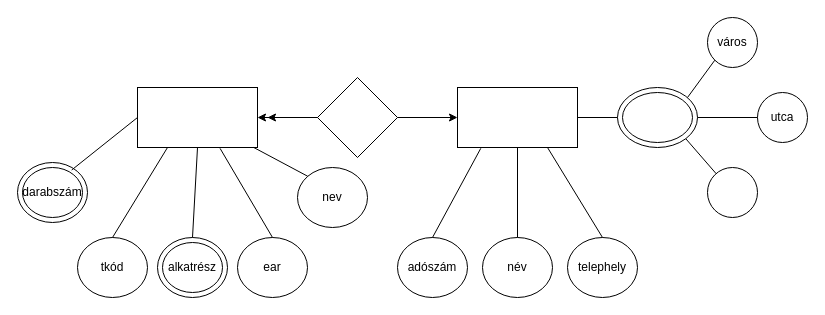
Image size: 825x315. Some labels were removed from this diagram. The shapes that lost their labels are listed below. From the top down, each one's centre as x and y in pixels, then its label:
the point at 197,117: Termékek
the point at 517,117: Gyártók
the point at 657,117: postai cím
the point at 732,192: hsz
